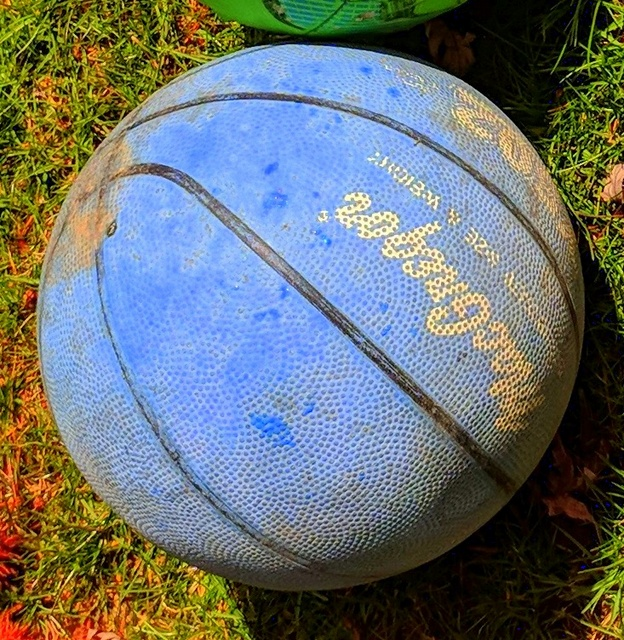ball: (31, 42, 586, 599)
